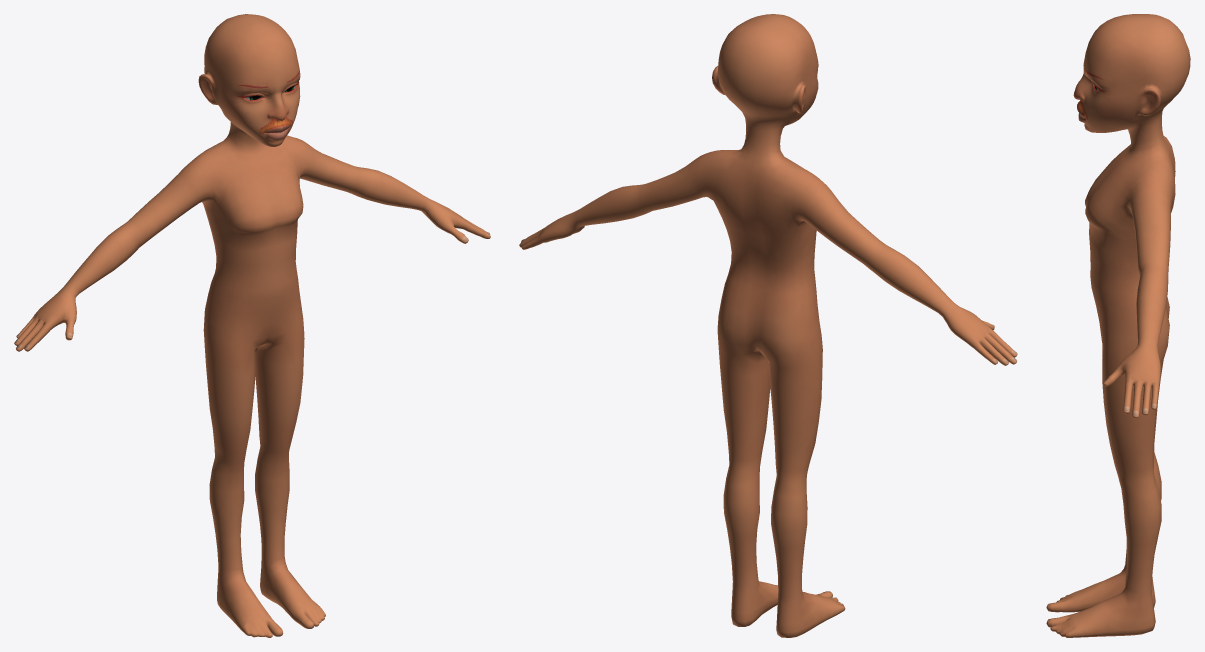
The model's file is frame_0100.glb.
The picture shows the model from 3 angles, left to right: view 1: azimuth 30°, elevation 25°; view 2: azimuth 150°, elevation 25°; view 3: azimuth 270°, elevation 25°; orthographic projection. The views are drawn at different scales.
Parts seen in each view (by area): view 1: frame_0100_head_geo; view 2: frame_0100_head_geo; view 3: frame_0100_head_geo.
Boxes of the visible parts, left/top/right/bottom form: frame_0100_head_geo: left=14, top=14, right=490, bottom=637; frame_0100_head_geo: left=519, top=14, right=1017, bottom=637; frame_0100_head_geo: left=1046, top=14, right=1190, bottom=637.
Bounding box in the file's own units: 1.28 × 1.5 × 0.3253.
3 materials, 3 textured.
